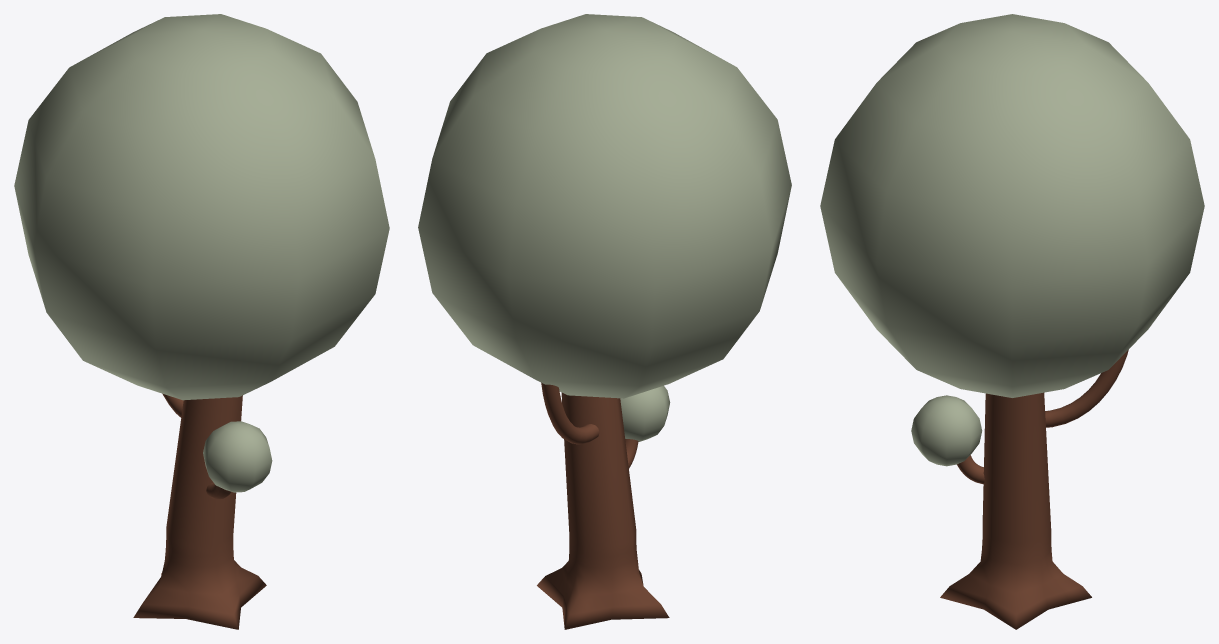
Rendered from tree_v1.fbx.
3 renders of one model, left to right at view 1: azimuth 30°, elevation 25°; view 2: azimuth 150°, elevation 25°; view 3: azimuth 270°, elevation 25°, orthographic.
Parts seen in each view (by area): view 1: tree; view 2: tree; view 3: tree.
Boxes of the visible parts, bbox=[...] form: tree: bbox=[14, 14, 389, 629]; tree: bbox=[418, 14, 791, 629]; tree: bbox=[820, 14, 1204, 629].
Bounding box in the file's own units: 389 × 632 × 389.
